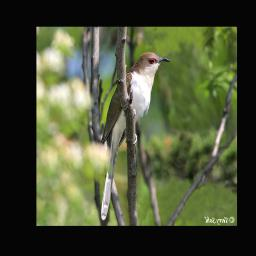Cuckoo: (100, 50, 171, 222)
